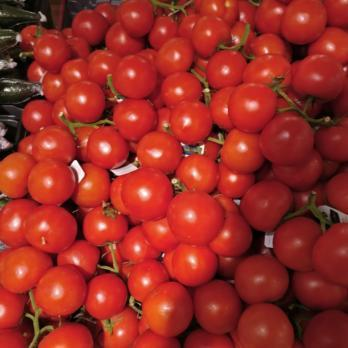Tomato: (42, 0, 348, 151)
Tomato-: (1, 156, 348, 348)
